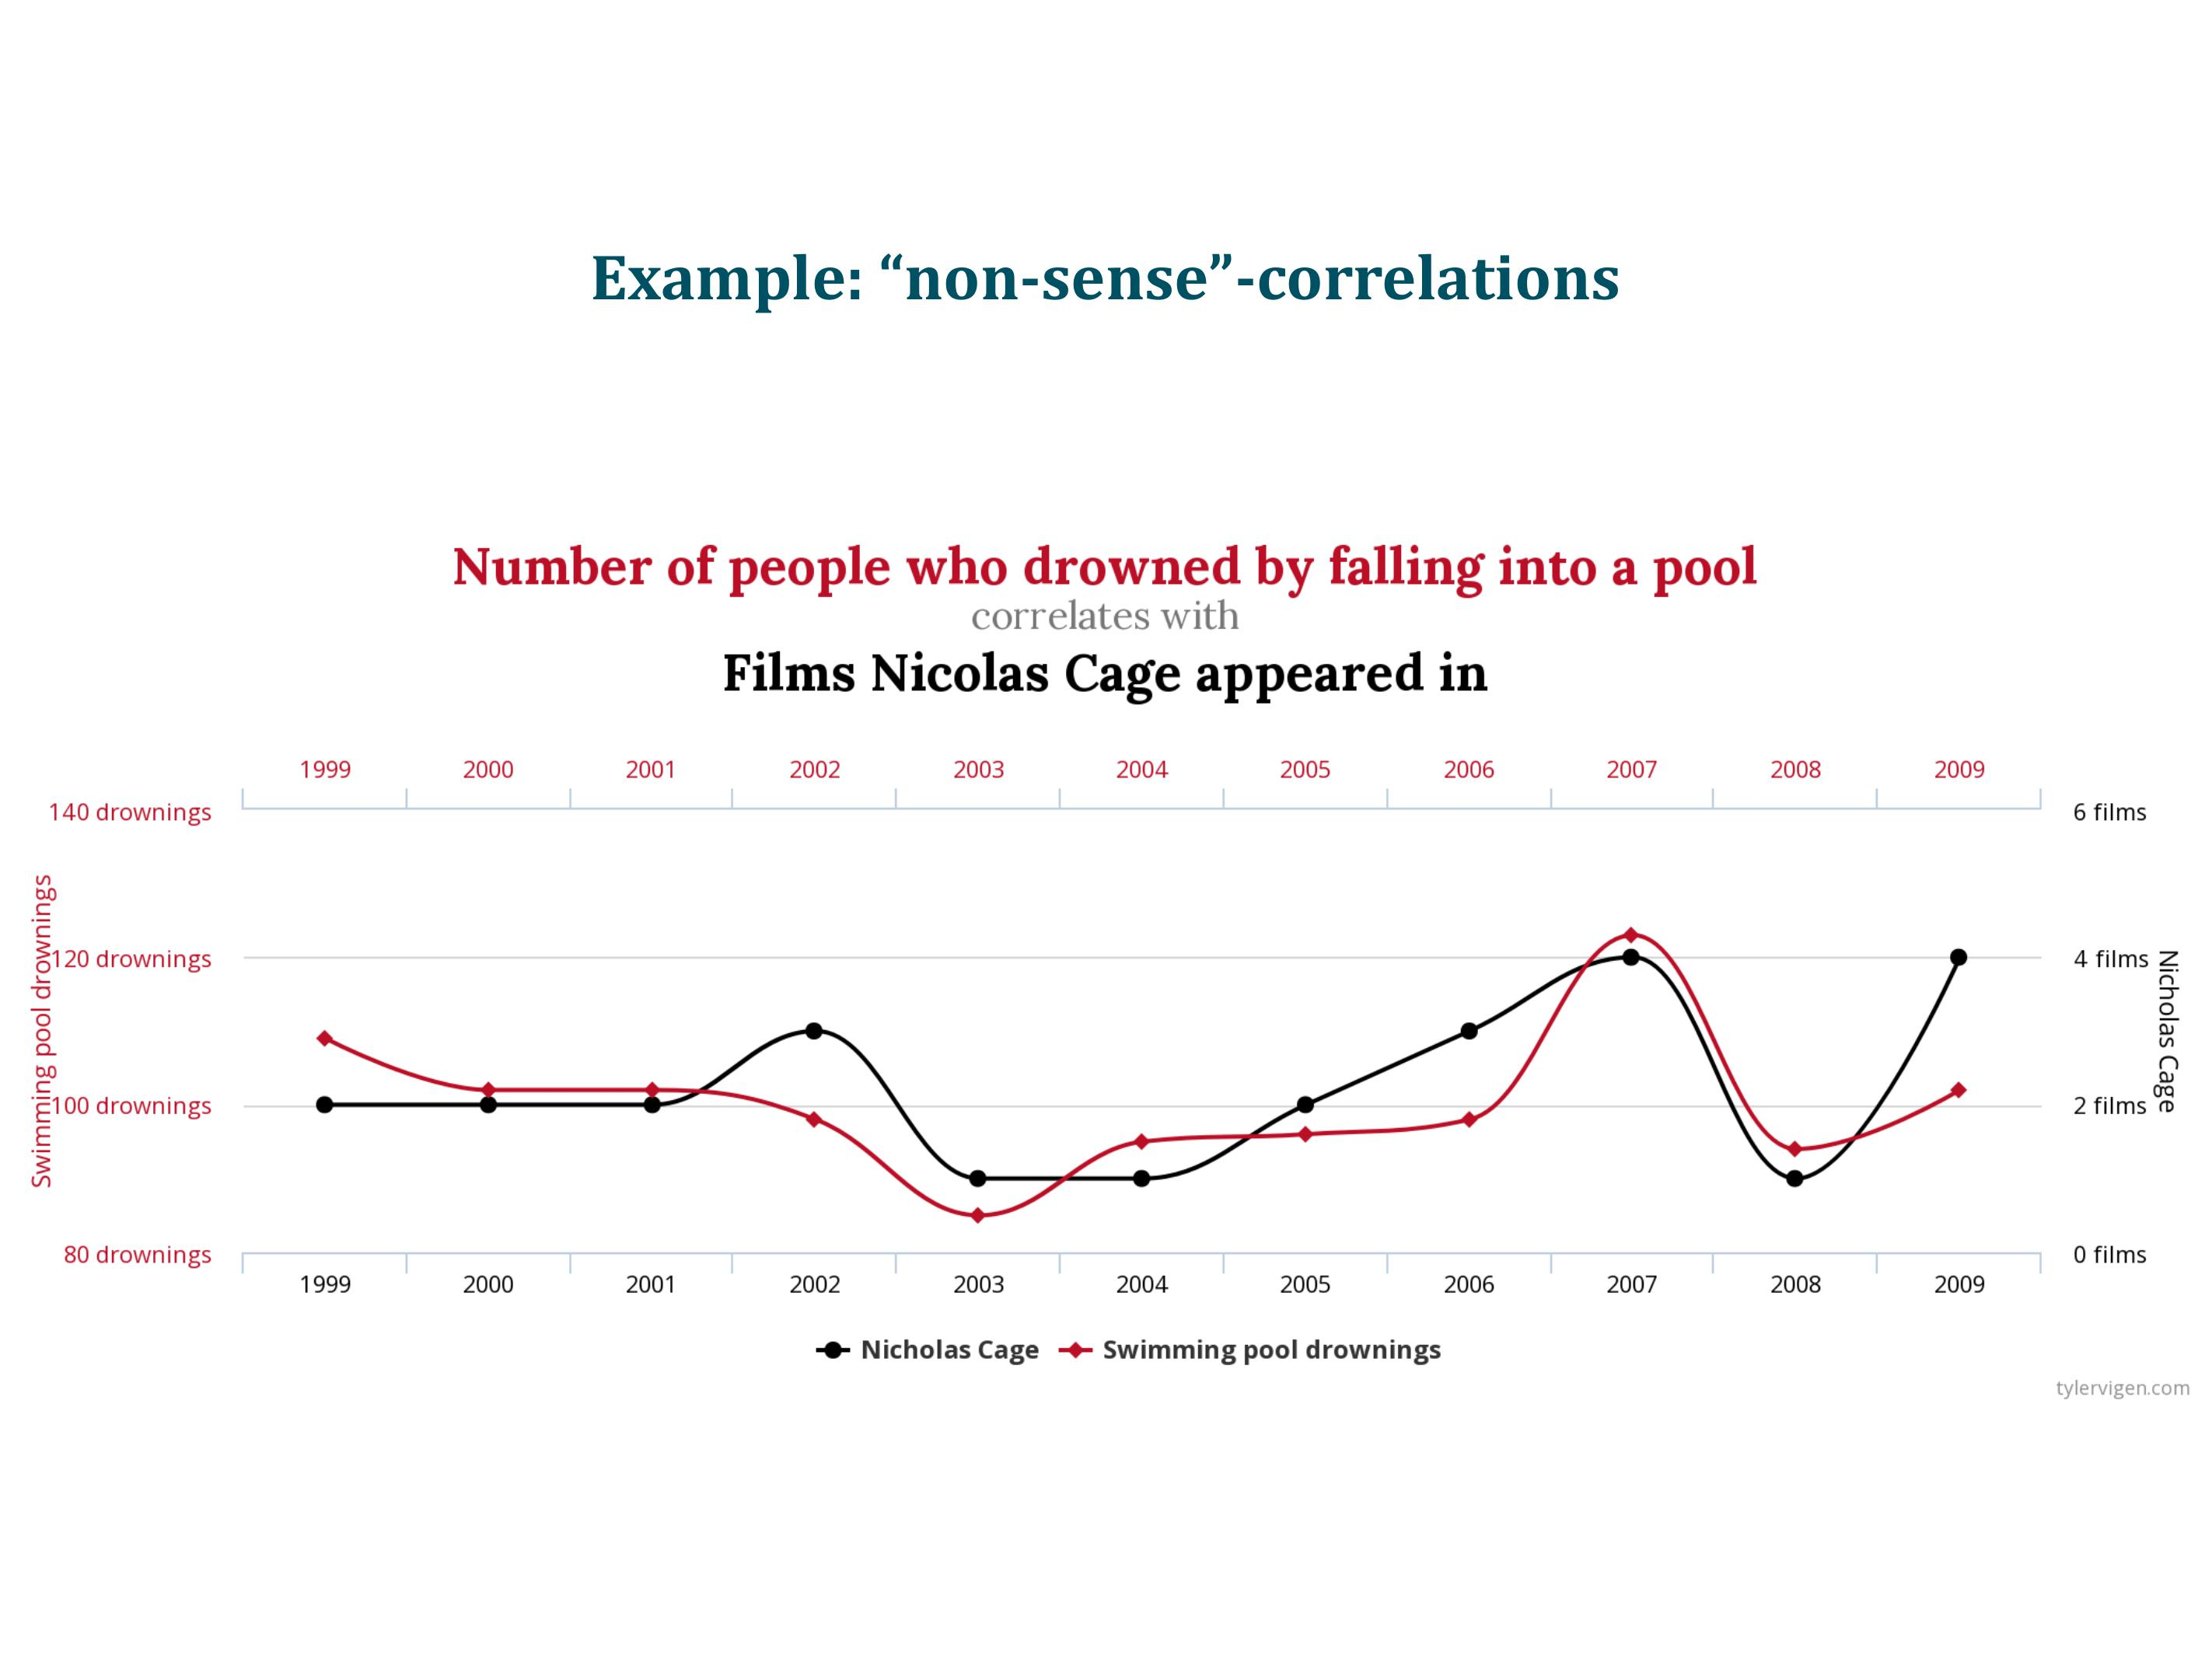Title: (570, 230, 1644, 324)
